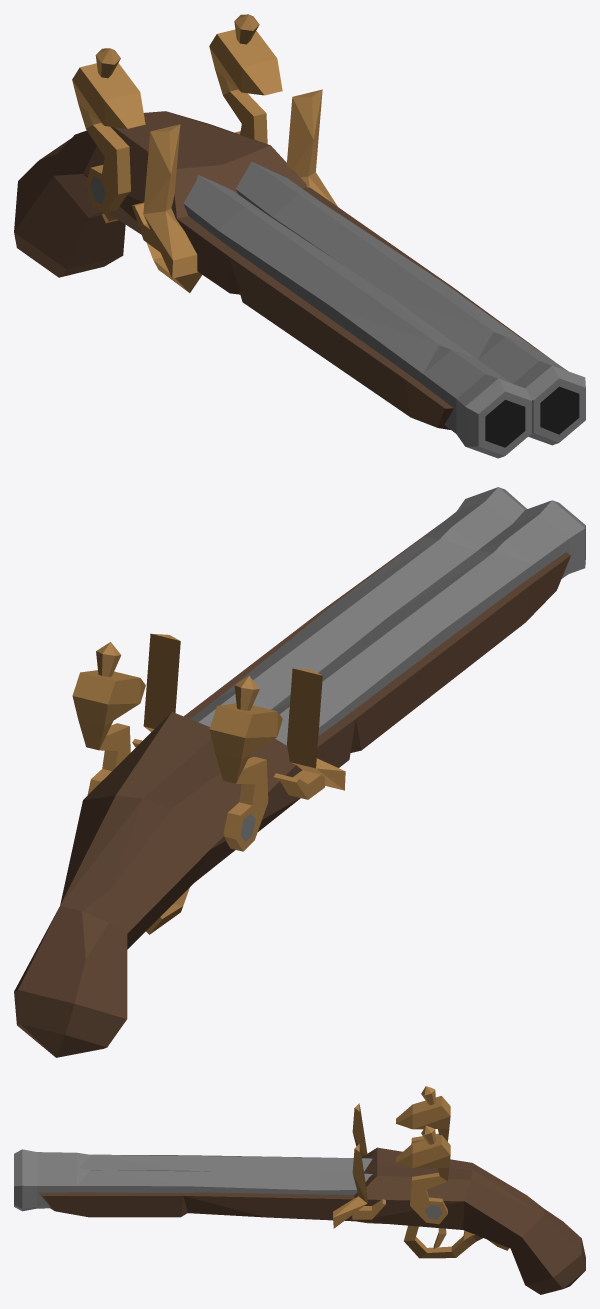
The model's file is SM_Wep_MusketPistol_DoubleBarrel_01_Separate.glb.
3 renders of one model, top to bottom at view 1: azimuth 30°, elevation 25°; view 2: azimuth 150°, elevation 25°; view 3: azimuth 270°, elevation 25°, orthographic. The views are drawn at different scales.
Visible parts, largest first — view 1: SM_Wep_MusketPistol_DoubleBarrel_01_Trigger_L; view 2: SM_Wep_MusketPistol_DoubleBarrel_01_Trigger_L; view 3: SM_Wep_MusketPistol_DoubleBarrel_01_Trigger_L.
Part boxes in pixels (x1=…): SM_Wep_MusketPistol_DoubleBarrel_01_Trigger_L: x1=14, y1=14, x2=585, y2=458; SM_Wep_MusketPistol_DoubleBarrel_01_Trigger_L: x1=14, y1=487, x2=585, y2=1057; SM_Wep_MusketPistol_DoubleBarrel_01_Trigger_L: x1=14, y1=1086, x2=585, y2=1294.
Bounding box in the file's own units: 0.00142 × 0.00246 × 0.00698.
